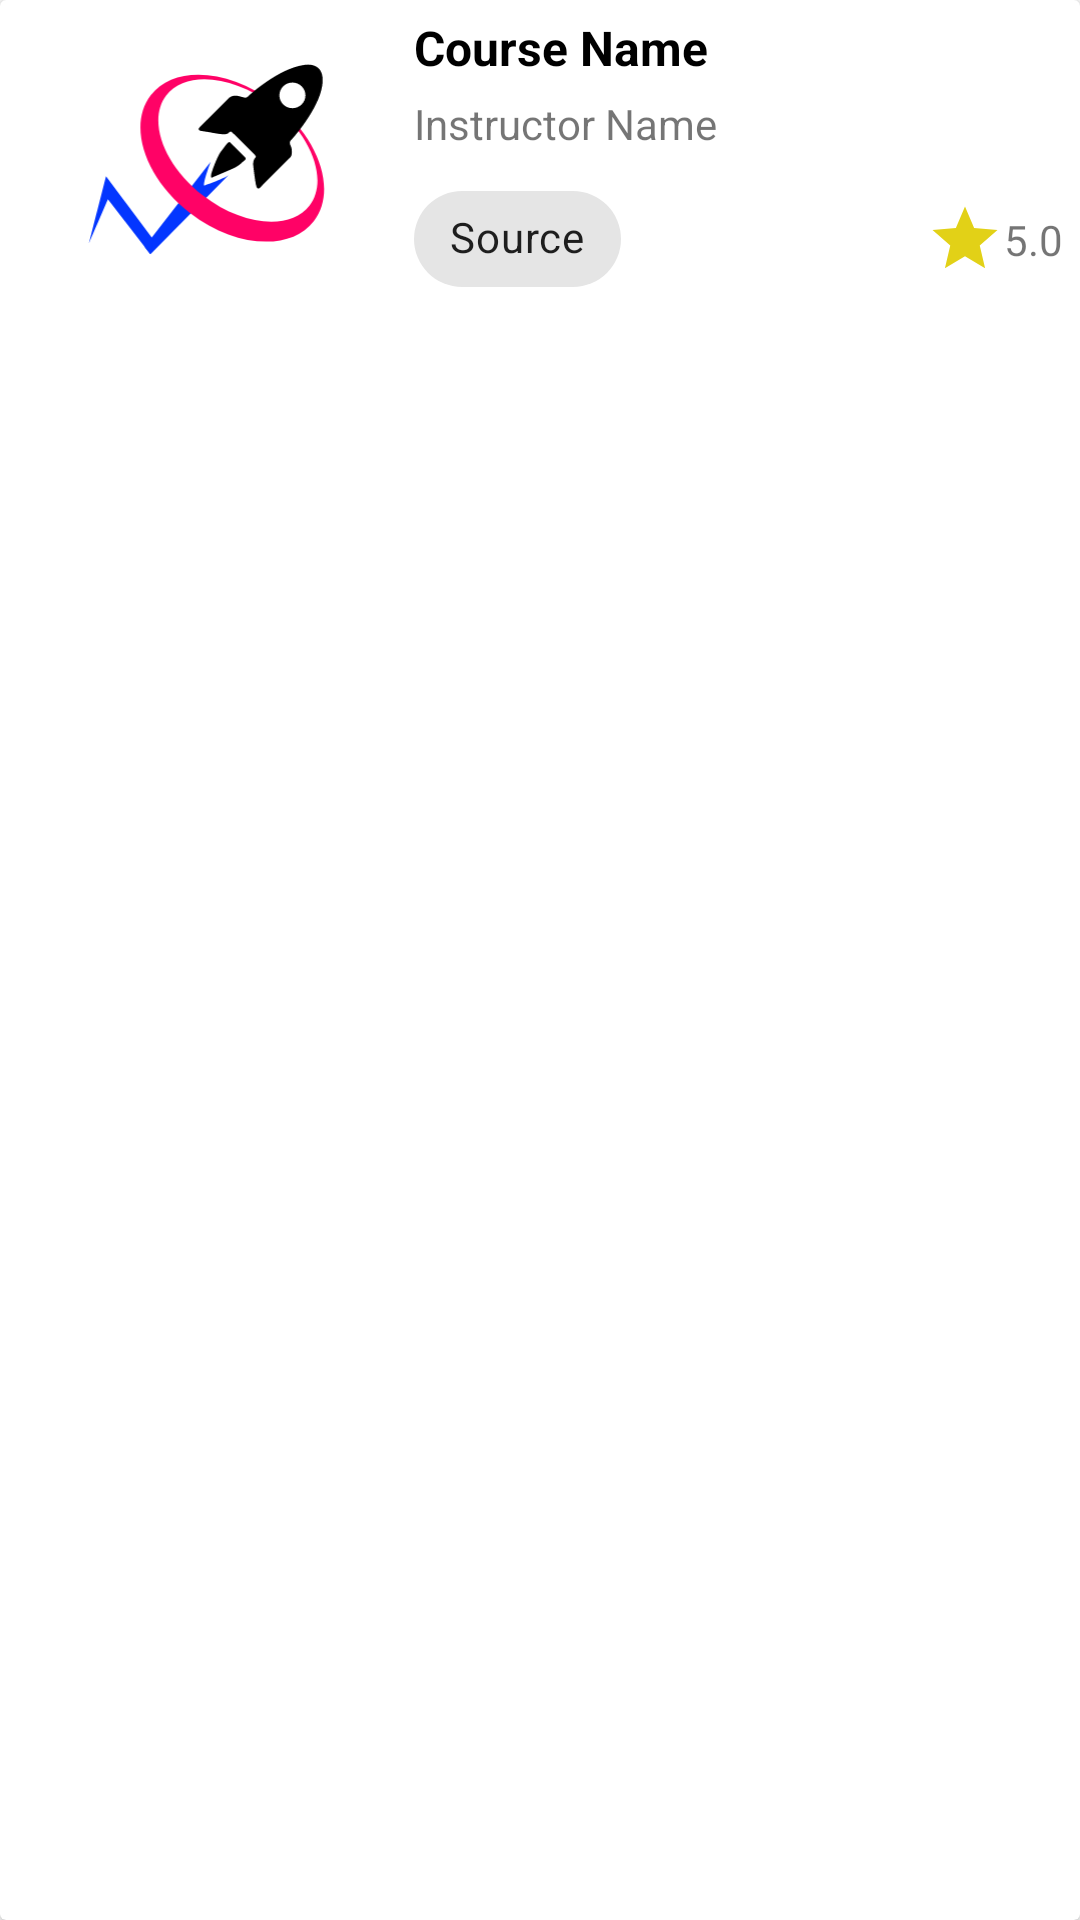

Where to tap for icons on this 1080px×1920px app screen, as (x,y):
rating: (965,237)
